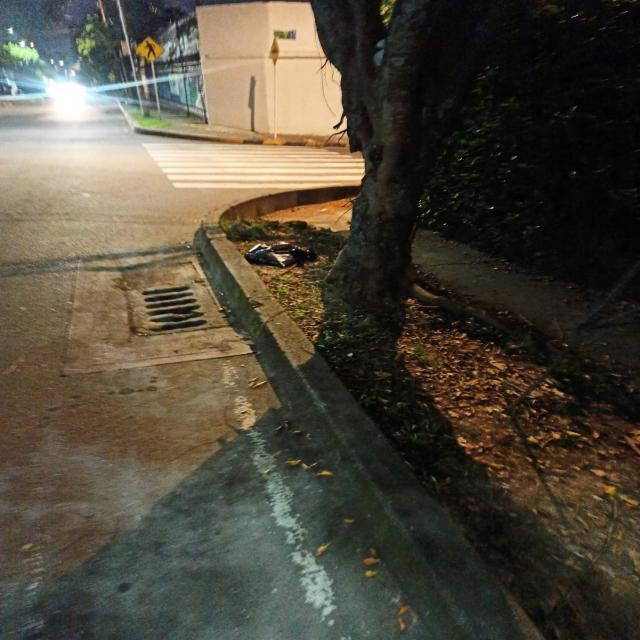Trashbag: (243, 238, 318, 270)
